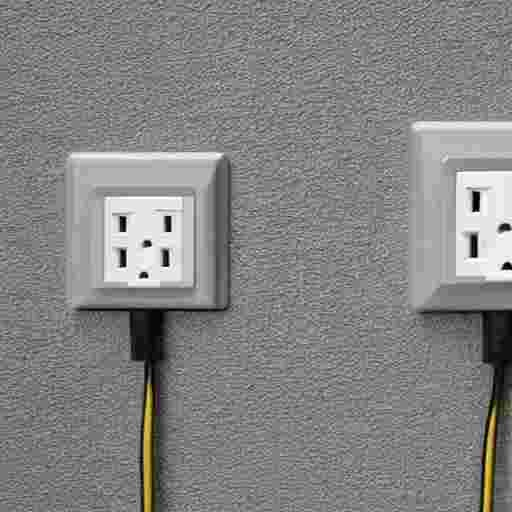power outlet: (66, 153, 228, 309), (409, 121, 511, 311)
